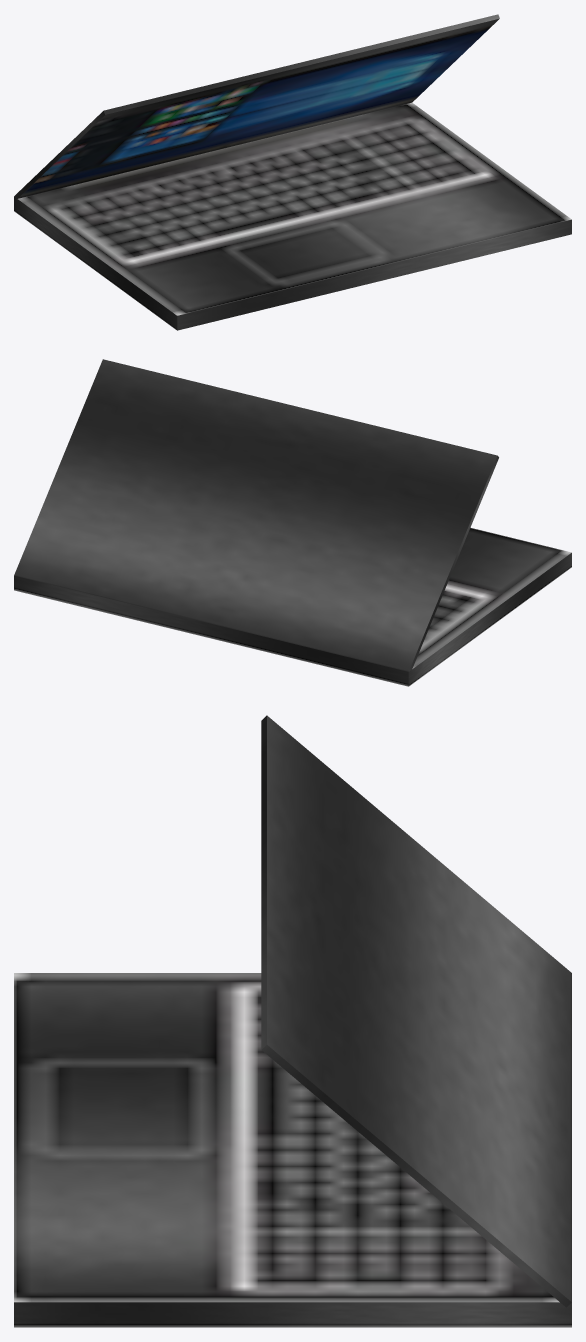
The model's file is laptop.fbx.
The picture shows the model from 3 angles, top to bottom: view 1: azimuth 30°, elevation 25°; view 2: azimuth 150°, elevation 25°; view 3: azimuth 270°, elevation 25°; orthographic projection. The views are drawn at different scales.
Parts seen in each view (by area): view 1: Laptop; view 2: Laptop; view 3: Laptop.
Boxes of the visible parts, x1,y1,x2,y2 form: Laptop: (14,14,571,330); Laptop: (14,359,571,686); Laptop: (14,715,571,1327).
Bounding box in the file's own units: 121 × 48.32 × 86.22.
1 material, 1 textured.
